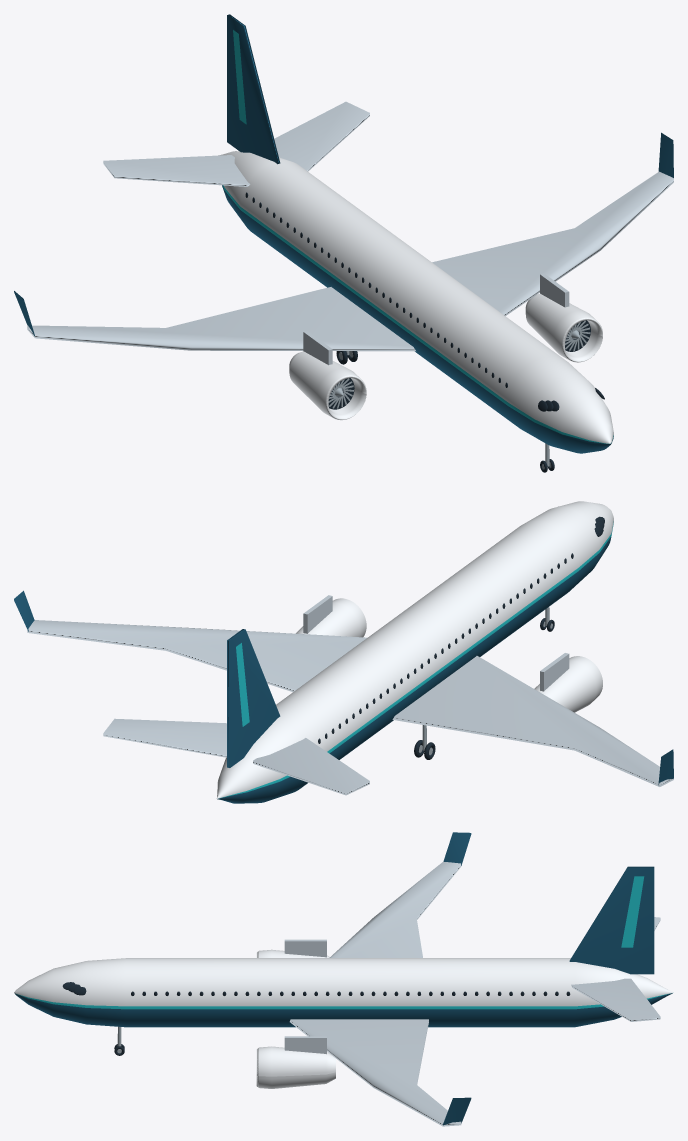
The model's file is a320neo.glb.
3 renders of one model, top to bottom at view 1: azimuth 30°, elevation 25°; view 2: azimuth 150°, elevation 25°; view 3: azimuth 270°, elevation 25°, orthographic. The views are drawn at different scales.
Parts seen in each view (by area): view 1: Fuselage_white, WingRight_wing, WingLeft_wing, Fuselage_paint, VerticalTail_paint, HorizontalTailRight_wing, HorizontalTailLeft_wing, EngineRight_white, EngineLeft_white, Fuselage_accent; view 2: Fuselage_white, WingRight_wing, WingLeft_wing, Fuselage_paint, VerticalTail_paint, HorizontalTailLeft_wing, HorizontalTailRight_wing, EngineRight_white, EngineLeft_white, Fuselage_accent, EngineLeft_wing, EngineRight_wing (+2 smaller); view 3: Fuselage_white, Fuselage_paint, WingLeft_wing, VerticalTail_paint, WingRight_wing, EngineLeft_white, Fuselage_accent, HorizontalTailLeft_wing, VerticalTail_accent, EngineRight_wing, EngineLeft_wing, CabinWindows_dark (+2 smaller).
Part boxes in pixels (x1=…): Fuselage_white: x1=218, y1=151, x2=613, y2=443; WingRight_wing: x1=27, y1=287, x2=415, y2=351; WingLeft_wing: x1=432, y1=171, x2=673, y2=315; Fuselage_paint: x1=222, y1=185, x2=613, y2=453; VerticalTail_paint: x1=227, y1=14, x2=280, y2=164; HorizontalTailRight_wing: x1=103, y1=155, x2=250, y2=186; HorizontalTailLeft_wing: x1=274, y1=101, x2=369, y2=171; EngineRight_white: x1=289, y1=351, x2=366, y2=420; EngineLeft_white: x1=525, y1=293, x2=602, y2=362; Fuselage_accent: x1=223, y1=185, x2=613, y2=443; Fuselage_white: x1=216, y1=501, x2=613, y2=798; WingRight_wing: x1=392, y1=656, x2=673, y2=786; WingLeft_wing: x1=27, y1=620, x2=366, y2=691; Fuselage_paint: x1=217, y1=536, x2=611, y2=803; VerticalTail_paint: x1=227, y1=629, x2=280, y2=767; HorizontalTailLeft_wing: x1=103, y1=718, x2=226, y2=757; HorizontalTailRight_wing: x1=253, y1=738, x2=369, y2=795; EngineRight_white: x1=534, y1=656, x2=602, y2=712; EngineLeft_white: x1=296, y1=598, x2=366, y2=637; Fuselage_accent: x1=220, y1=521, x2=613, y2=798; EngineLeft_wing: x1=303, y1=595, x2=332, y2=633; EngineRight_wing: x1=540, y1=653, x2=569, y2=691; Fuselage_white: x1=14, y1=958, x2=673, y2=1006; Fuselage_paint: x1=14, y1=993, x2=672, y2=1027; WingLeft_wing: x1=289, y1=1019, x2=461, y2=1126; VerticalTail_paint: x1=569, y1=866, x2=654, y2=974; WingRight_wing: x1=329, y1=861, x2=461, y2=957; EngineLeft_white: x1=256, y1=1046, x2=335, y2=1088; Fuselage_accent: x1=17, y1=993, x2=670, y2=1009; HorizontalTailLeft_wing: x1=571, y1=978, x2=660, y2=1021; VerticalTail_accent: x1=621, y1=876, x2=644, y2=947; EngineRight_wing: x1=284, y1=939, x2=326, y2=957; EngineLeft_wing: x1=284, y1=1036, x2=326, y2=1054; CabinWindows_dark: x1=131, y1=991, x2=570, y2=995.
Size of the model in its own units: 35.8 by 11.76 by 37.57.
